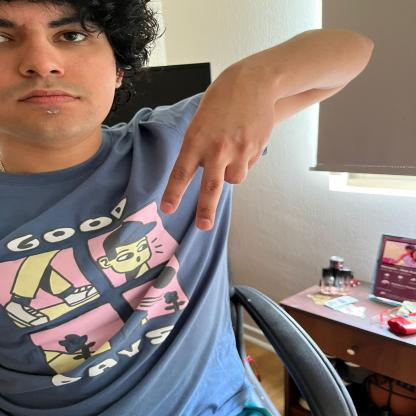N: (157, 68, 277, 232)
